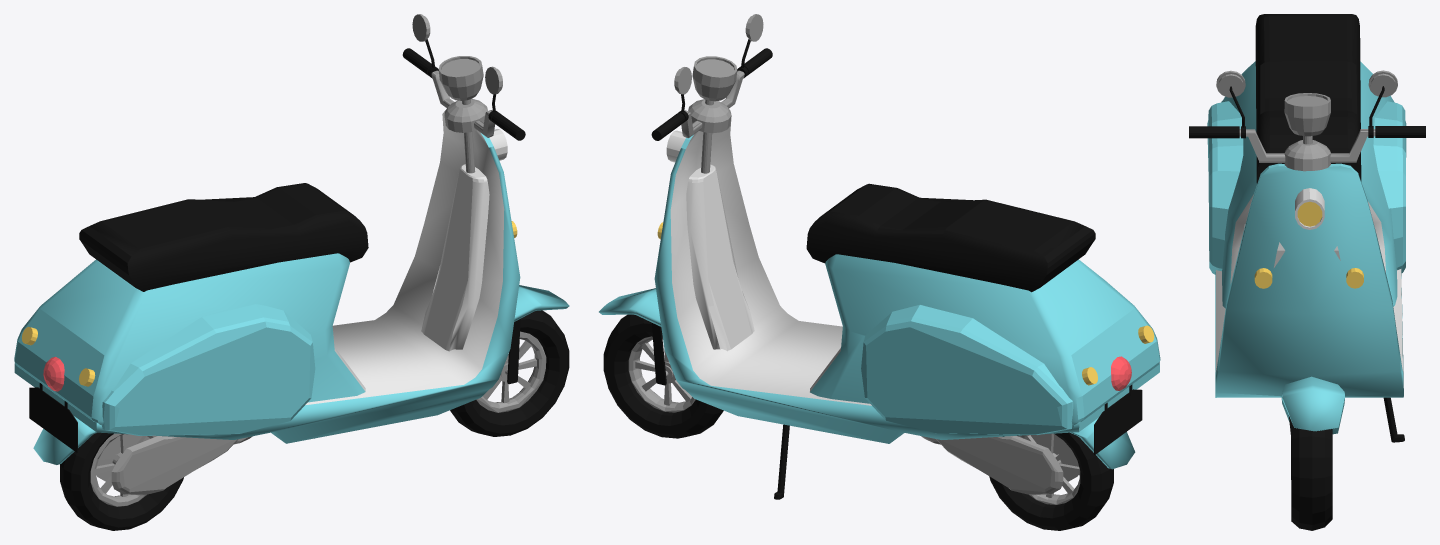
File: scooter.glb
The picture shows the model from 3 angles, left to right: view 1: azimuth 30°, elevation 25°; view 2: azimuth 150°, elevation 25°; view 3: azimuth 270°, elevation 25°; orthographic projection. The views are drawn at different scales.
Parts seen in each view (by area): view 1: defaultMaterial.008; view 2: defaultMaterial.008; view 3: defaultMaterial.008.
Boxes of the visible parts, box(x1,y1,x2,y2) form: defaultMaterial.008: box(14, 14, 569, 530); defaultMaterial.008: box(599, 14, 1160, 530); defaultMaterial.008: box(1189, 14, 1425, 530).
Bounding box in the file's own units: 1.53 × 1.14 × 0.5699.
